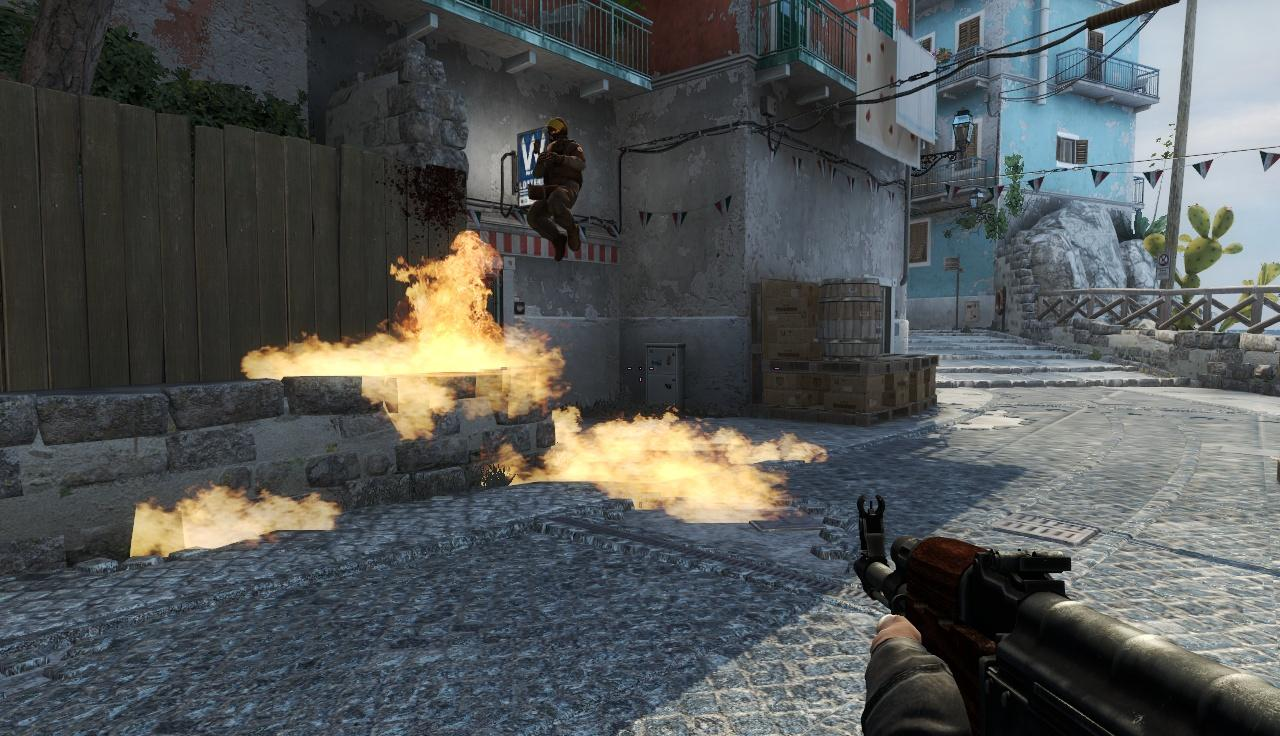ct: (527, 113, 589, 260)
cthead: (546, 116, 570, 141)
rifle: (859, 499, 1280, 736)
